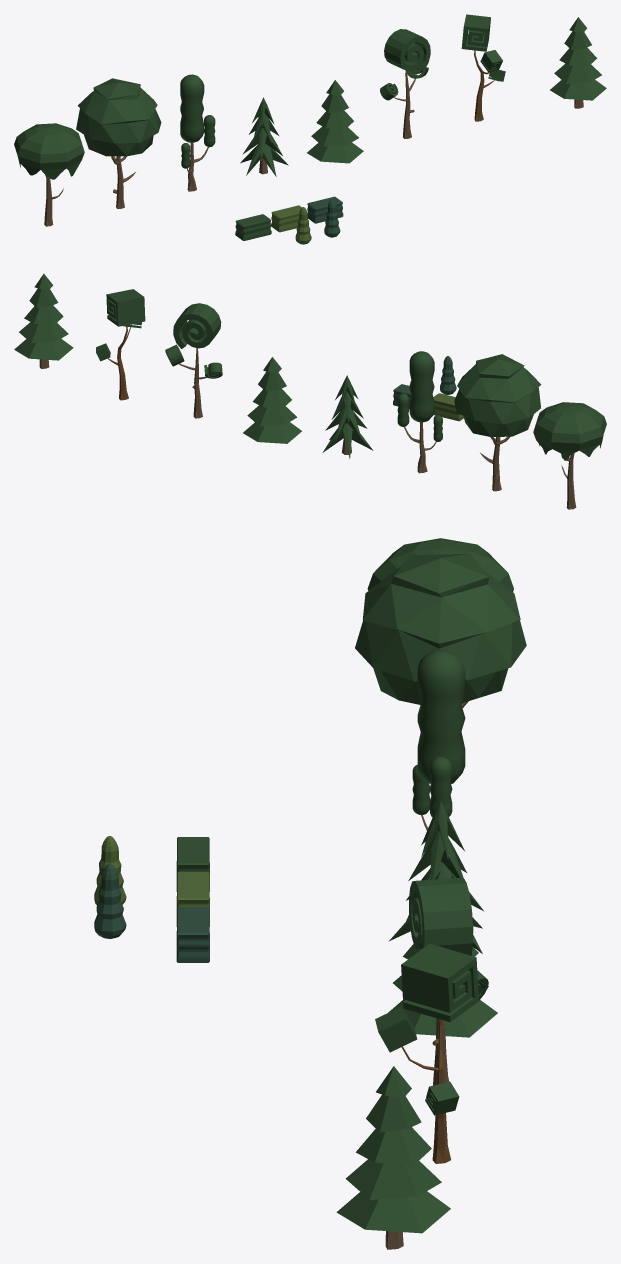
The model's file is Trees and Plants.fbx.
3 views of the same model, one above another, from view 1: azimuth 30°, elevation 25°; view 2: azimuth 150°, elevation 25°; view 3: azimuth 270°, elevation 25° (orthographic). The views are drawn at different scales.
Parts seen in each view (by area): view 1: Tree 2 A, Tree 1 A, Tree 8 A, Tree 5 A, Tree 3 A, Tree 6 A, Tree 7 A, Tree 4 A, Bush 2 A, Bush 2 B, Bush 2 C, Bush 3 C (+1 smaller); view 2: Tree 2 A, Tree 1 A, Tree 8 A, Tree 5 A, Tree 6 A, Tree 3 A, Tree 7 A, Tree 4 A, Bush 2 B, Bush 3 C; view 3: Tree 2 A, Tree 8 A, Tree 7 A, Tree 3 A, Tree 6 A, Tree 4 A, Tree 1 A, Tree 5 A, Bush 2 C, Bush 3 C, Bush 2 A, Bush 2 B.
Boxes of the visible parts, x1,y1,x2,y2 form: Tree 2 A: [76, 78, 161, 208]; Tree 1 A: [14, 123, 84, 226]; Tree 8 A: [550, 17, 606, 108]; Tree 5 A: [307, 80, 363, 163]; Tree 3 A: [180, 74, 215, 191]; Tree 6 A: [380, 29, 430, 138]; Tree 7 A: [461, 14, 505, 121]; Tree 4 A: [240, 97, 288, 176]; Bush 2 A: [235, 214, 271, 240]; Bush 2 B: [271, 205, 301, 232]; Bush 2 C: [307, 196, 343, 223]; Bush 3 C: [324, 200, 340, 237]; Tree 2 A: [454, 354, 541, 491]; Tree 1 A: [533, 402, 606, 509]; Tree 8 A: [14, 273, 73, 368]; Tree 5 A: [243, 357, 301, 443]; Tree 6 A: [165, 303, 222, 418]; Tree 3 A: [397, 351, 442, 473]; Tree 7 A: [96, 289, 145, 400]; Tree 4 A: [322, 375, 373, 459]; Bush 2 B: [433, 393, 463, 421]; Bush 3 C: [440, 356, 456, 394]; Tree 2 A: [355, 553, 526, 708]; Tree 8 A: [336, 1066, 450, 1249]; Tree 7 A: [375, 943, 478, 1163]; Tree 3 A: [412, 649, 465, 830]; Tree 6 A: [409, 877, 488, 1085]; Tree 4 A: [389, 800, 483, 953]; Tree 1 A: [367, 538, 513, 591]; Tree 5 A: [388, 870, 497, 1037]; Bush 2 C: [176, 907, 209, 962]; Bush 3 C: [94, 864, 126, 938]; Bush 2 A: [176, 837, 209, 891]; Bush 2 B: [176, 872, 209, 926].
Bounding box in the file's own units: 7956 × 1675 × 2613.
